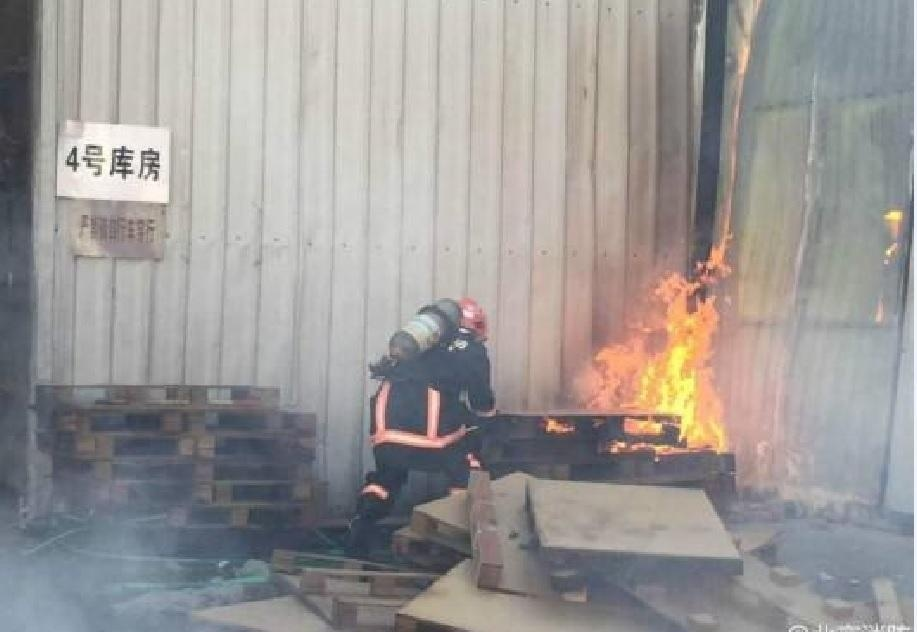fire: (564, 240, 738, 454), (880, 204, 906, 261)
